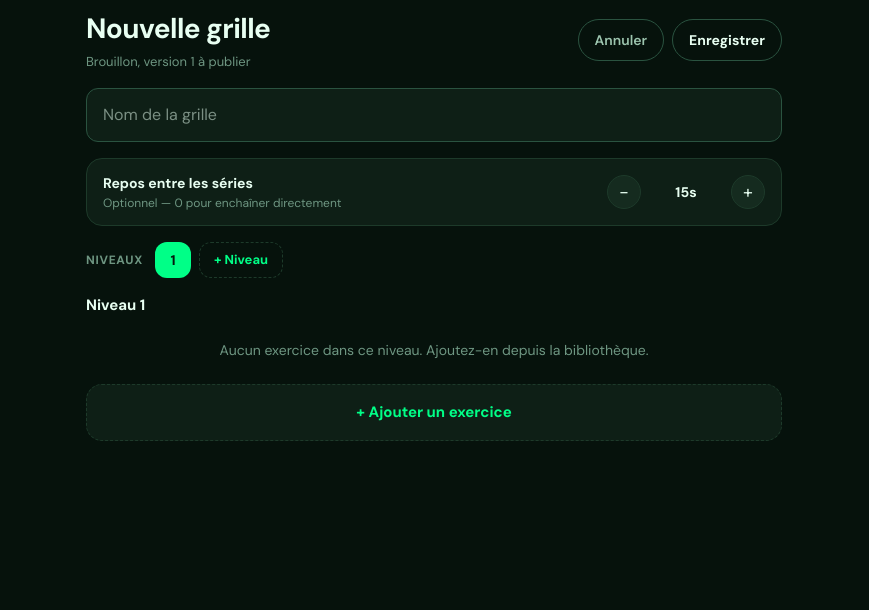
Test: bibliotheque › ajoute l exercice avec une serie par defaut et revient au constructeur
Click the button "+ Ajouter un exercice": (434, 412) [86,384,782,440]
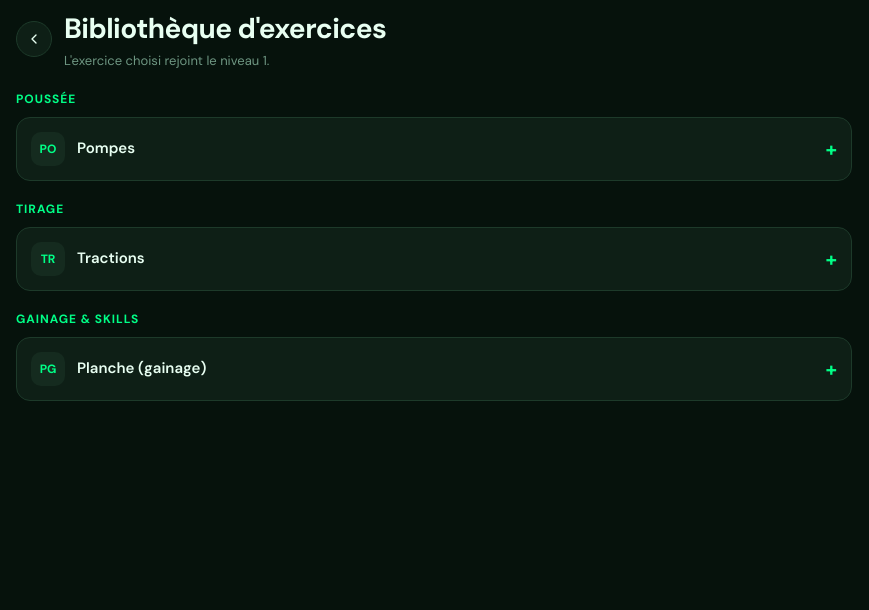
Click the button "PO Pompes +": (48, 148) [16,116,852,180]
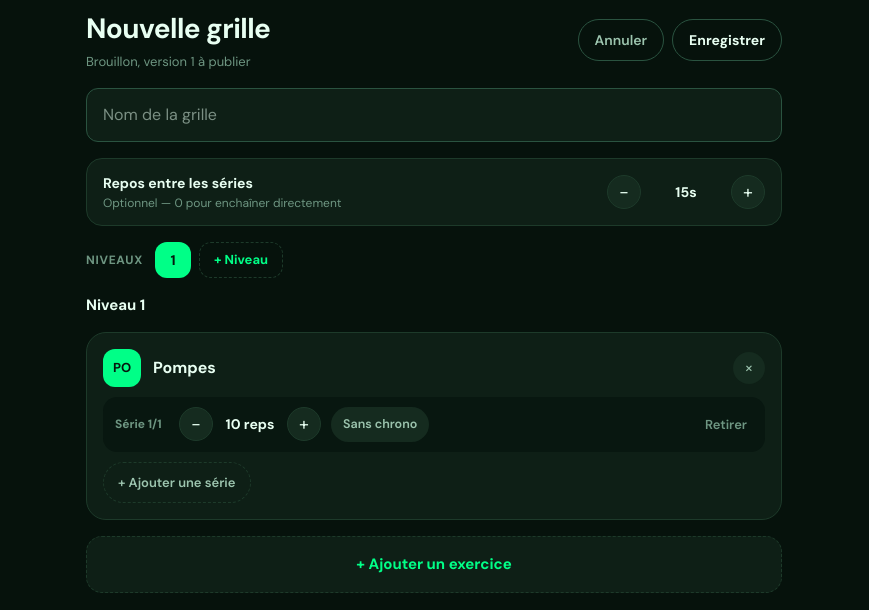
Now the text "Pompes" is shown, box [153,357,216,378]
Now the heading "Poussée" is gone
Now the text "Série 1/1" is shown, box [115,416,169,432]
